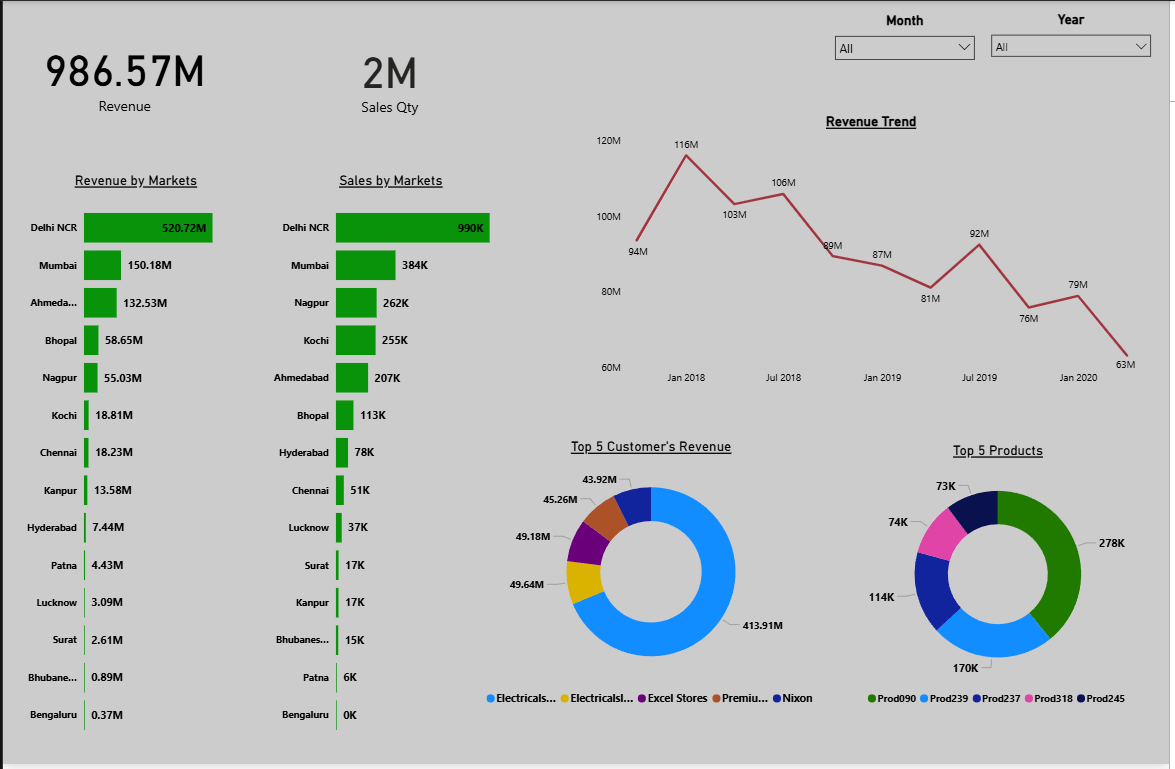

What the dashboard file says about the page in this screenshot:
{"tool":"powerbi","page":{"name":"Page 1","canvas":[1450,950],"ordinal":0},"visuals":[{"type":"card","fields":{"Values":["sales customers.Revenue"]},"box":[10.9,12.4,281.4,158.6],"z":0},{"type":"card","fields":{"Values":["sales customers.Sales Qty"]},"box":[340.4,14,281.4,158.6],"z":1000},{"type":"barChart","title":"Revenue by Markets","fields":{"Y":["sales customers.Revenue"],"Category":["sales markets.markets_name"]},"box":[11.1,212.9,308.9,717.9],"z":2000},{"type":"barChart","title":"Sales by Markets","fields":{"Category":["sales markets.markets_name"],"Y":["sales customers.Sales Qty"]},"box":[320,212.9,324.2,717.9],"z":3000},{"type":"slicer","title":"Year","fields":{"Values":["sales date.year"]},"box":[1218.7,12.4,219.2,94.8],"z":4000},{"type":"slicer","title":"Month","fields":{"Values":["sales date.cy_date"]},"box":[1024.4,14,194.3,79.3],"z":5000},{"type":"lineChart","title":"Revenue Trend","fields":{"Y":["sales customers.Revenue"],"Category":["sales date.cy_date.Variation.Date Hierarchy.Year","sales date.cy_date.Variation.Date Hierarchy.Quarter"]},"box":[732.2,139.9,694.8,346.6],"z":6000},{"type":"donutChart","title":"Top 5 Customer''s Revenue","fields":{"Y":["sales customers.Revenue"],"Category":["sales customers.custmer_name"]},"box":[587.6,544.1,436.8,342],"z":7000},{"type":"donutChart","title":"Top 5 Products ","fields":{"Y":["sales customers.Sales Qty"],"Category":["sales transactions.product_code"]},"box":[1024.4,548.7,425.9,337.3],"z":8000}]}

Visuals, with their boxes in screenshot pixels (x1, y1, x2, y2), scaled from the page's 1450x950 canvas onto the 1175x769 screenshot:
card - sales customers.Revenue: [x1=9, y1=10, x2=237, y2=138]
card - sales customers.Sales Qty: [x1=276, y1=11, x2=504, y2=140]
"Revenue by Markets" barChart: [x1=9, y1=172, x2=259, y2=753]
"Sales by Markets" barChart: [x1=259, y1=172, x2=522, y2=753]
"Year" slicer: [x1=988, y1=10, x2=1165, y2=87]
"Month" slicer: [x1=830, y1=11, x2=988, y2=76]
"Revenue Trend" lineChart: [x1=593, y1=113, x2=1156, y2=394]
"Top 5 Customer''s Revenue" donutChart: [x1=476, y1=440, x2=830, y2=717]
"Top 5 Products " donutChart: [x1=830, y1=444, x2=1174, y2=717]
